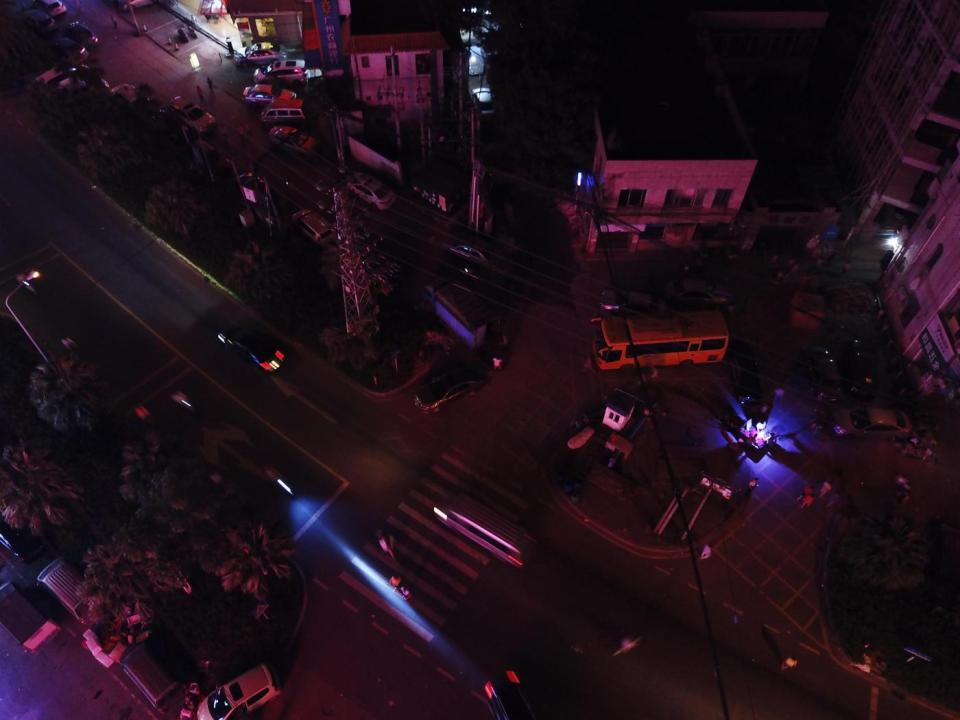bus: (588, 308, 729, 374)
car: (431, 490, 539, 569), (195, 659, 281, 720), (414, 361, 492, 415), (215, 319, 287, 376), (830, 404, 912, 441), (726, 337, 770, 404), (482, 668, 537, 720), (446, 238, 514, 280), (599, 286, 668, 324), (803, 341, 843, 404), (343, 169, 398, 212), (670, 274, 736, 308), (168, 96, 218, 138), (843, 338, 878, 397), (288, 206, 337, 244), (268, 122, 322, 156), (232, 42, 290, 71), (241, 84, 297, 111), (250, 60, 307, 84), (46, 35, 90, 64), (19, 8, 60, 36), (65, 20, 98, 47), (38, 0, 68, 16)
van: (431, 490, 539, 569), (34, 555, 105, 627), (0, 580, 61, 654), (31, 62, 71, 98), (259, 99, 310, 122)
